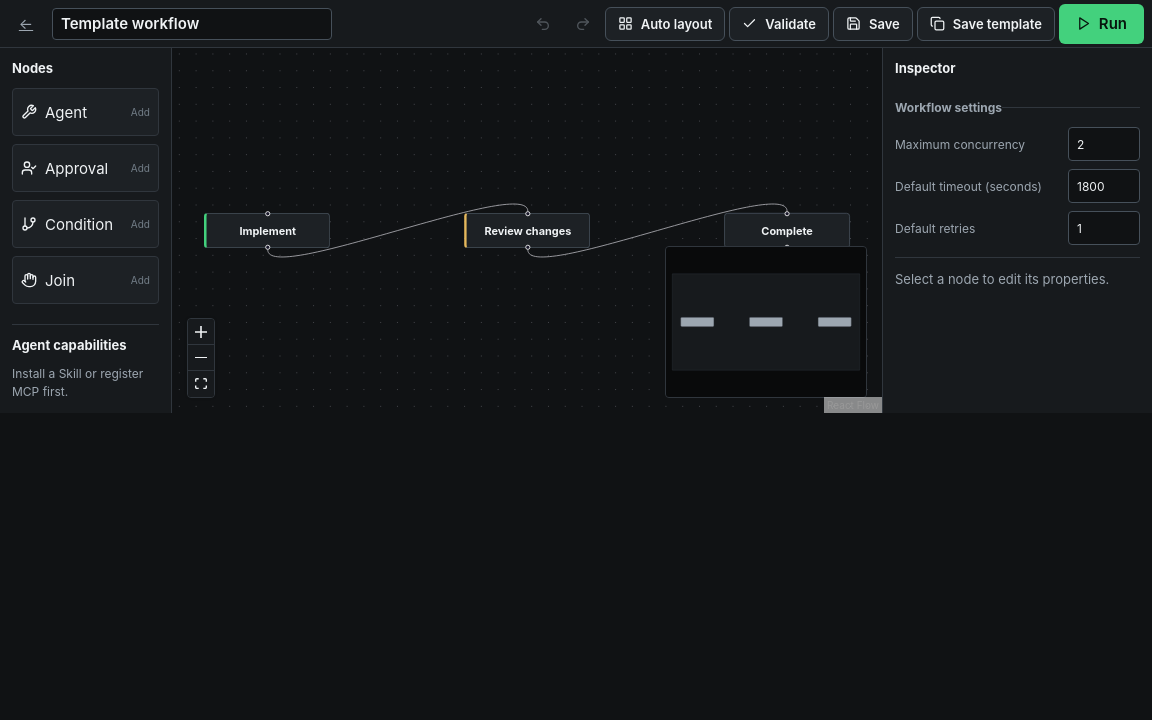
Test: WorkflowEditorPage › saves a valid template and reports a backend template error
The image size is (1152, 720).
Expected: the field showing "Template workflow" is shown, x1=52 y1=8 x2=332 y2=40
Step 1. Click the button "Save template" → (986, 24), box x1=917 y1=6 x2=1055 y2=40
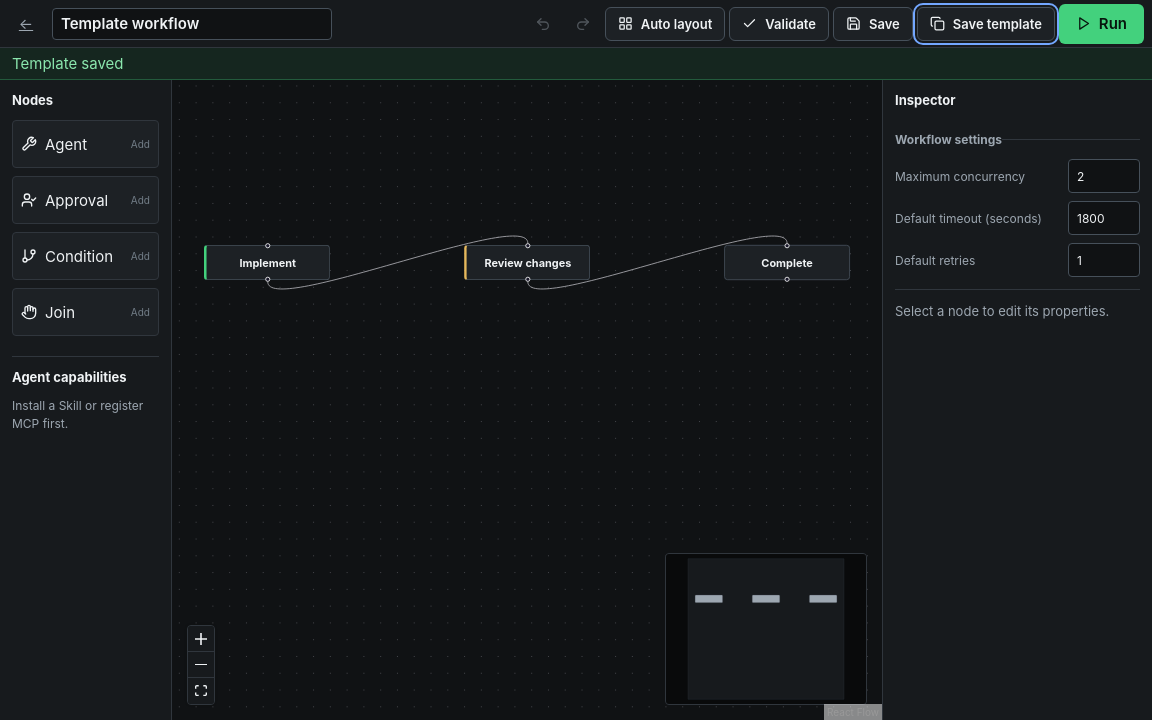
Expected: the message reads "Template saved", x1=12 y1=54 x2=124 y2=73
Step 2. Click the button "Save template" → (986, 24), box x1=917 y1=6 x2=1055 y2=40
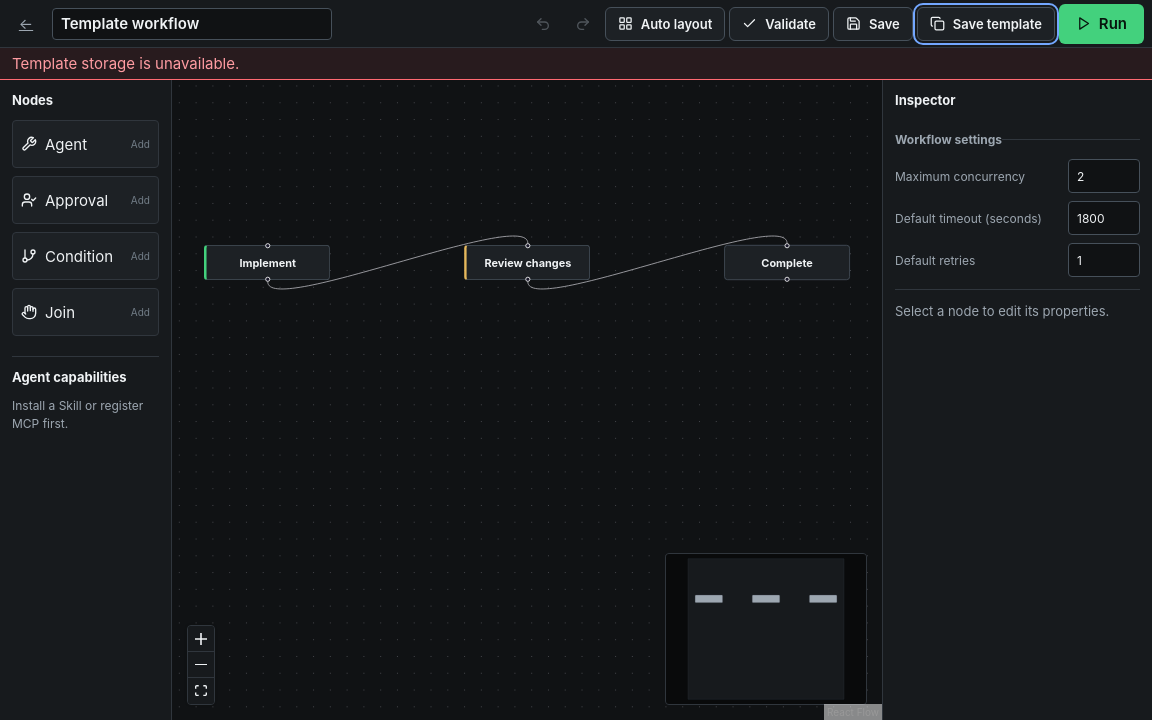
Expected: the message reads "Template storage is unavailable.", x1=12 y1=54 x2=239 y2=73
